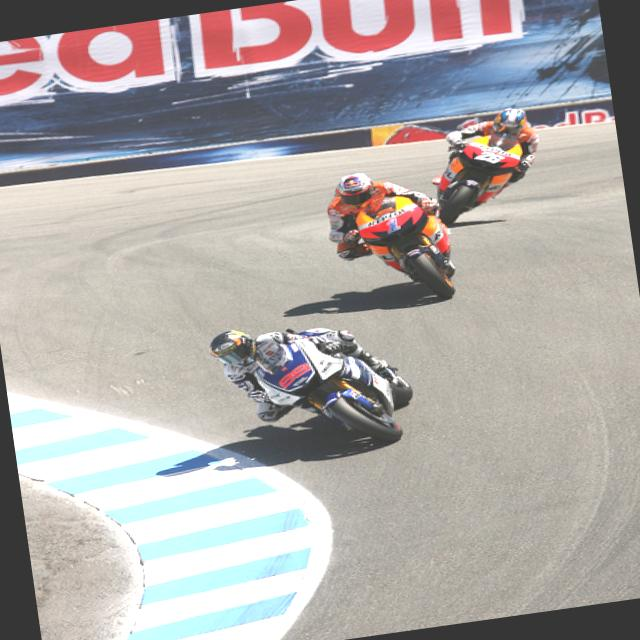Vehicle: (253, 327, 404, 458), (353, 187, 464, 309), (423, 128, 535, 232)
